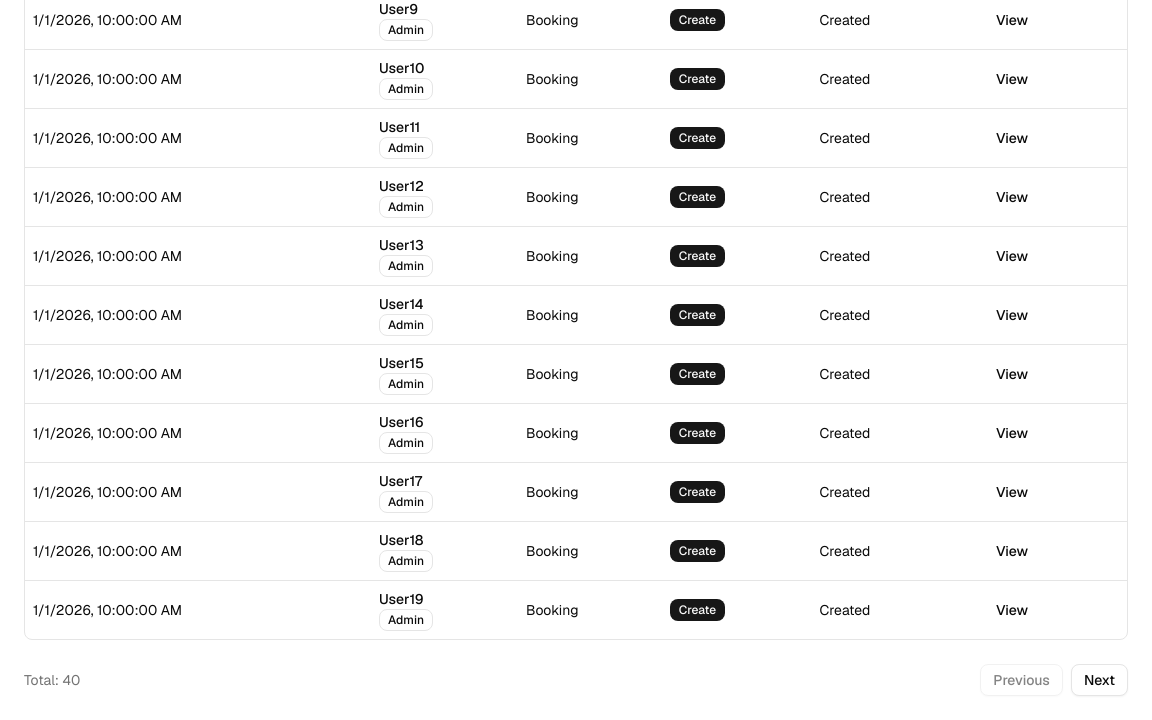
Test: AuditPage › clicking Next on audit page increments page (not disabled when full page)
(page scrolled)
Click the button "Next" at point(1099, 680), box x1=1071 y1=664 x2=1128 y2=696
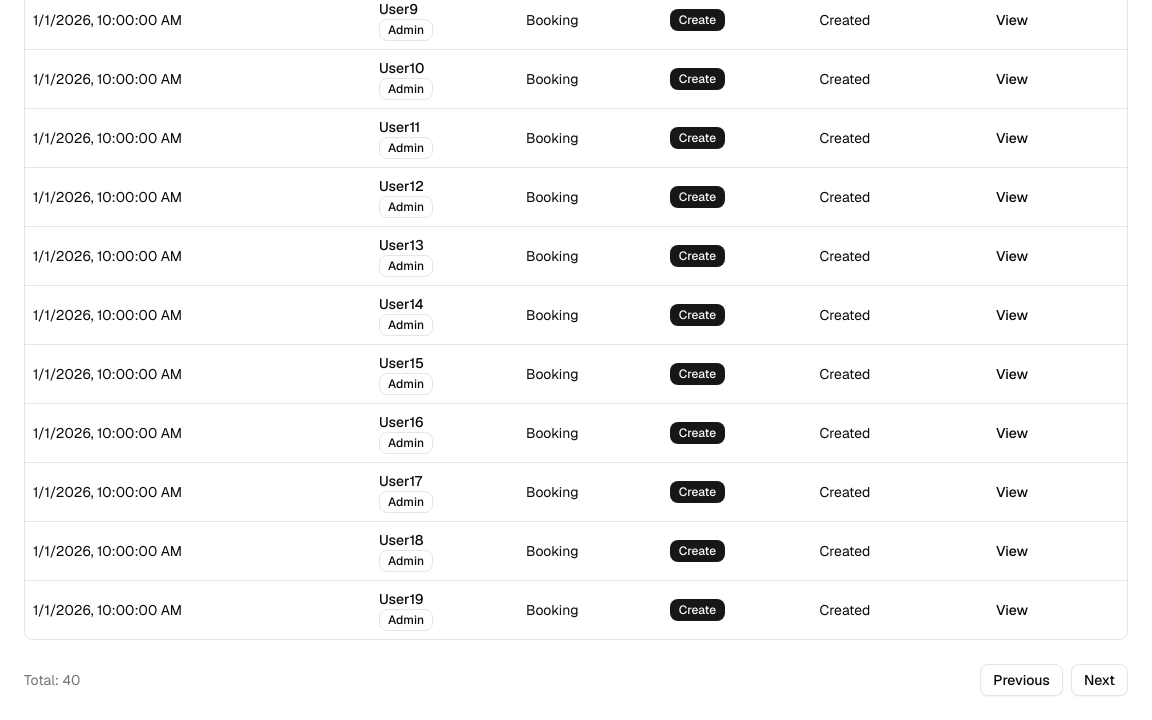
Result: the button "Previous" is enabled at x1=980 y1=664 x2=1063 y2=696
